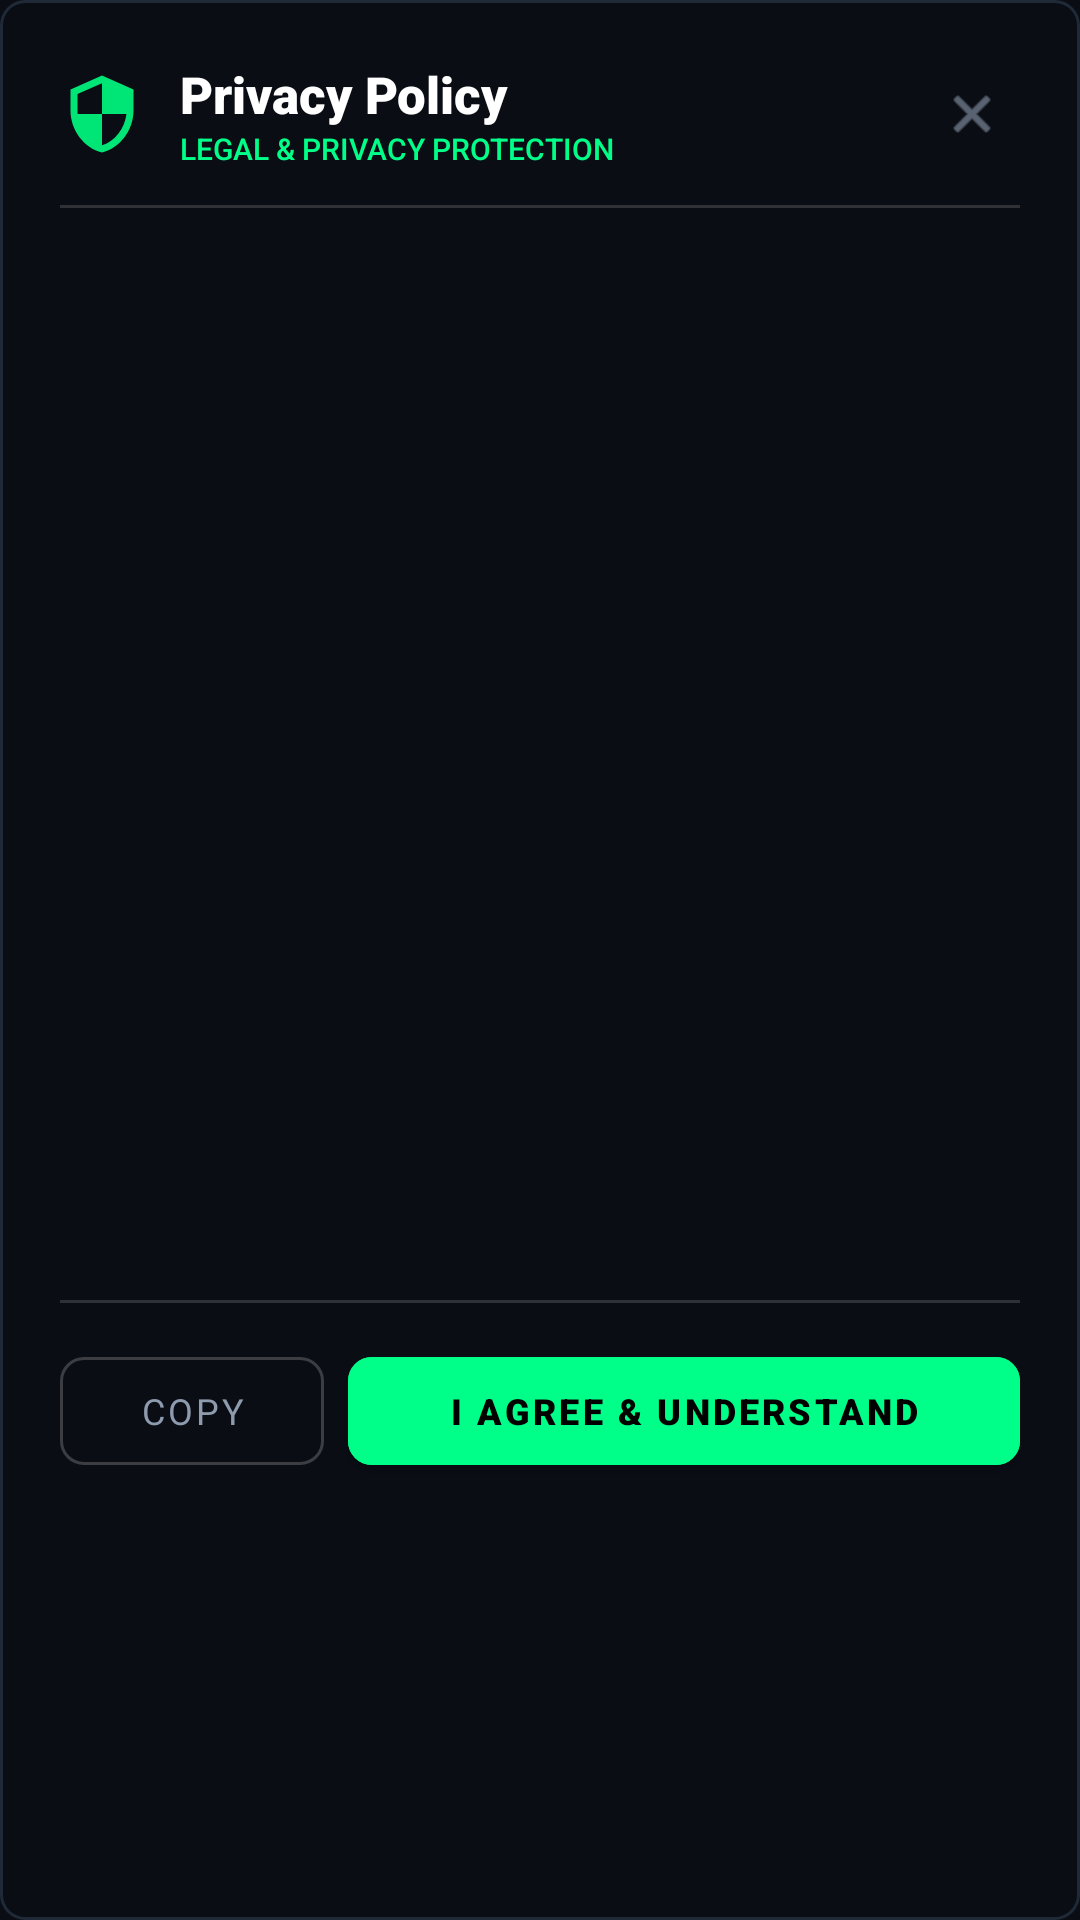

Icons on this 1080 x 1920 Android screen, each with its box as bbox=[x1, y1, x2, y2]:
Close: bbox=[953, 95, 991, 133]
